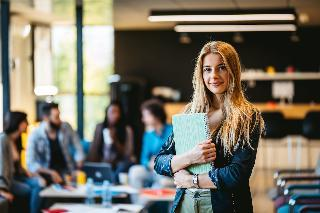person - v3 P: (155, 42, 263, 212), (26, 103, 84, 183), (0, 112, 45, 212), (129, 100, 173, 189), (87, 102, 135, 182)
